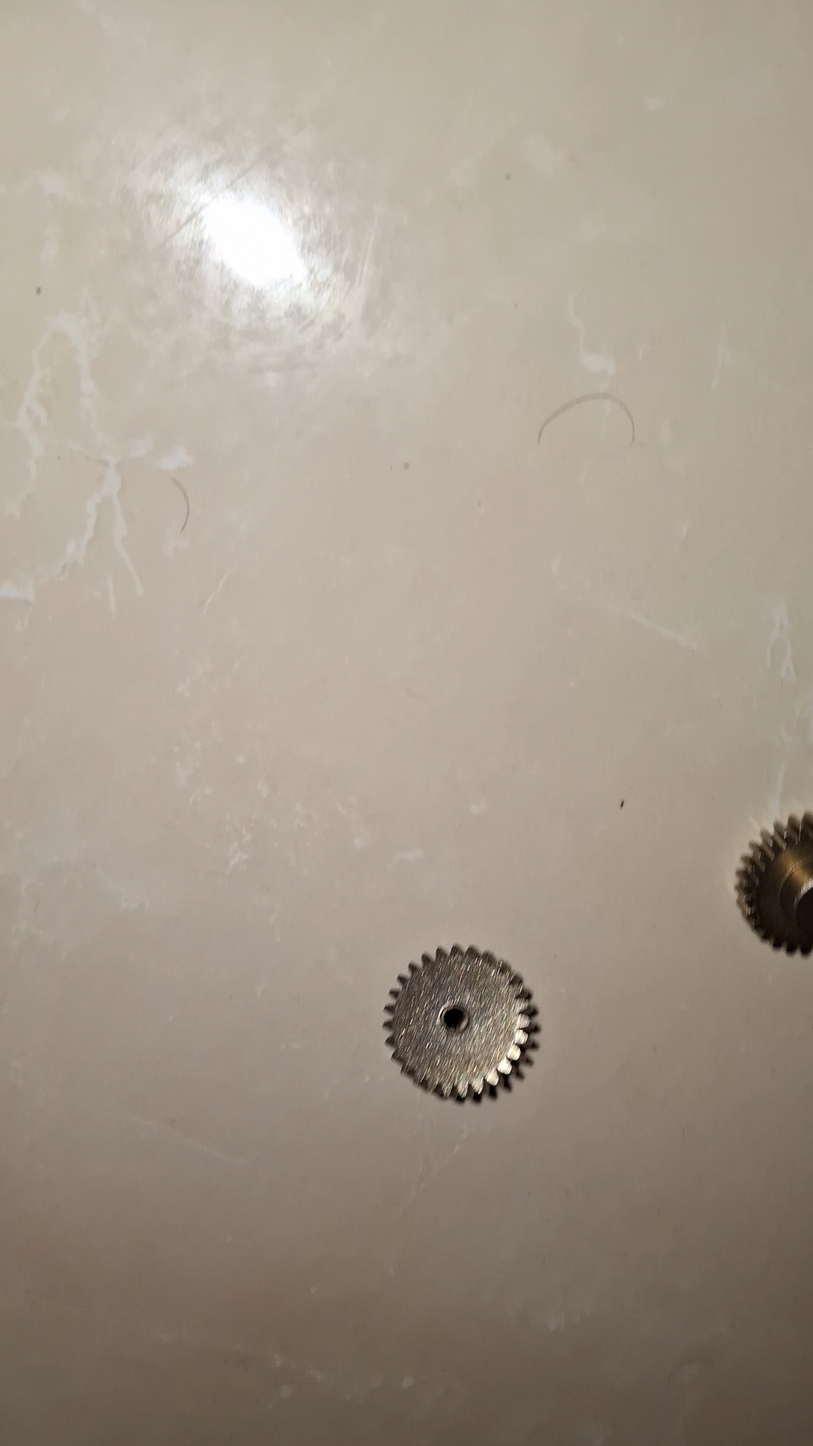spur gear: (385, 945, 534, 1098), (737, 813, 813, 954)
